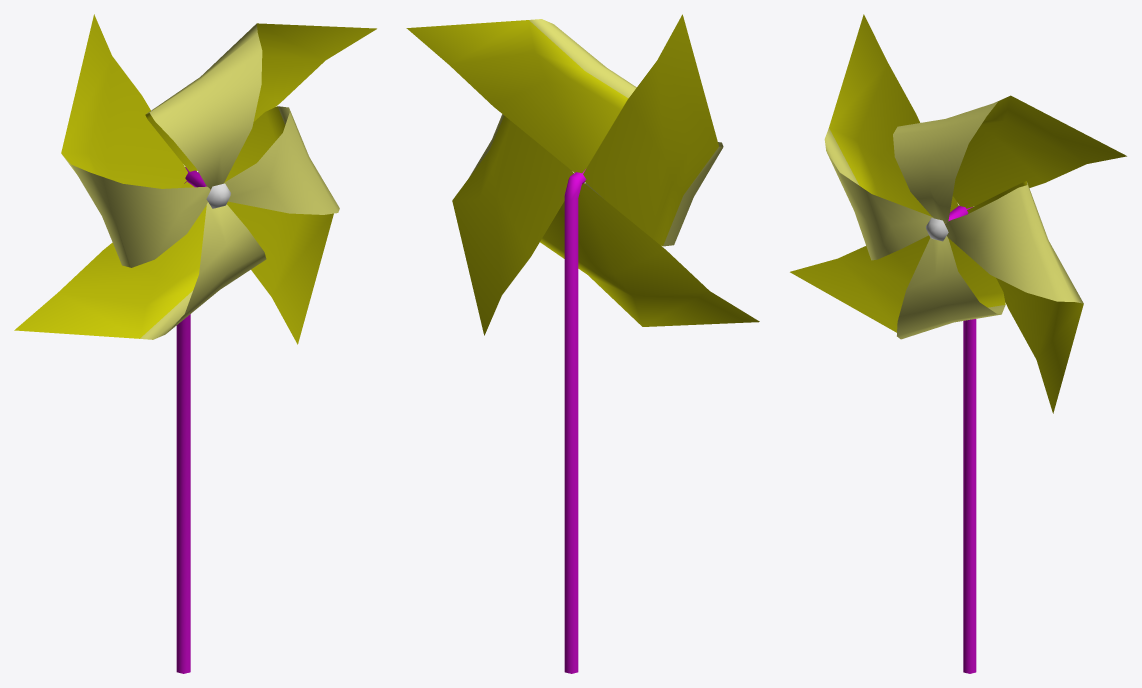
Rendered from F_Windmill001.fbx.
3 views of the same model, side by side, from view 1: azimuth 30°, elevation 25°; view 2: azimuth 150°, elevation 25°; view 3: azimuth 330°, elevation 25° (orthographic). The views are drawn at different scales.
Parts seen in each view (by area): view 1: Object075, Cylinder082; view 2: Object075, Cylinder082; view 3: Object075, Cylinder082.
Part boxes in pixels (bbox=[...]): Object075: bbox=[14, 14, 376, 344]; Cylinder082: bbox=[176, 167, 230, 673]; Object075: bbox=[406, 14, 759, 335]; Cylinder082: bbox=[564, 169, 586, 673]; Object075: bbox=[790, 14, 1126, 413]; Cylinder082: bbox=[926, 205, 976, 673].
Bounding box in the file's own units: 51.99 × 94.28 × 11.25.
